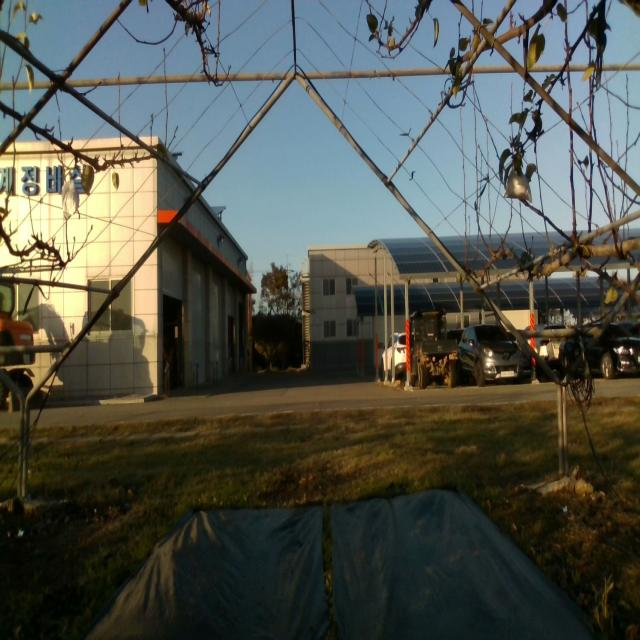pearbags: (503, 167, 533, 205), (61, 180, 80, 224)
